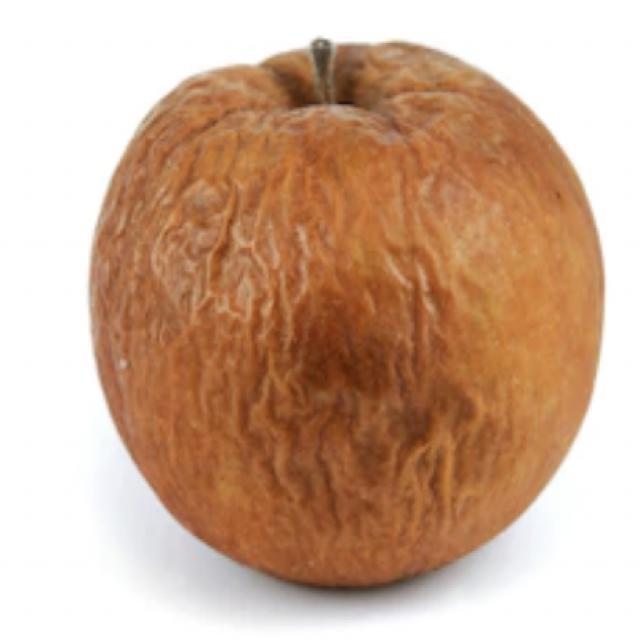Rotten: (82, 36, 603, 592)
